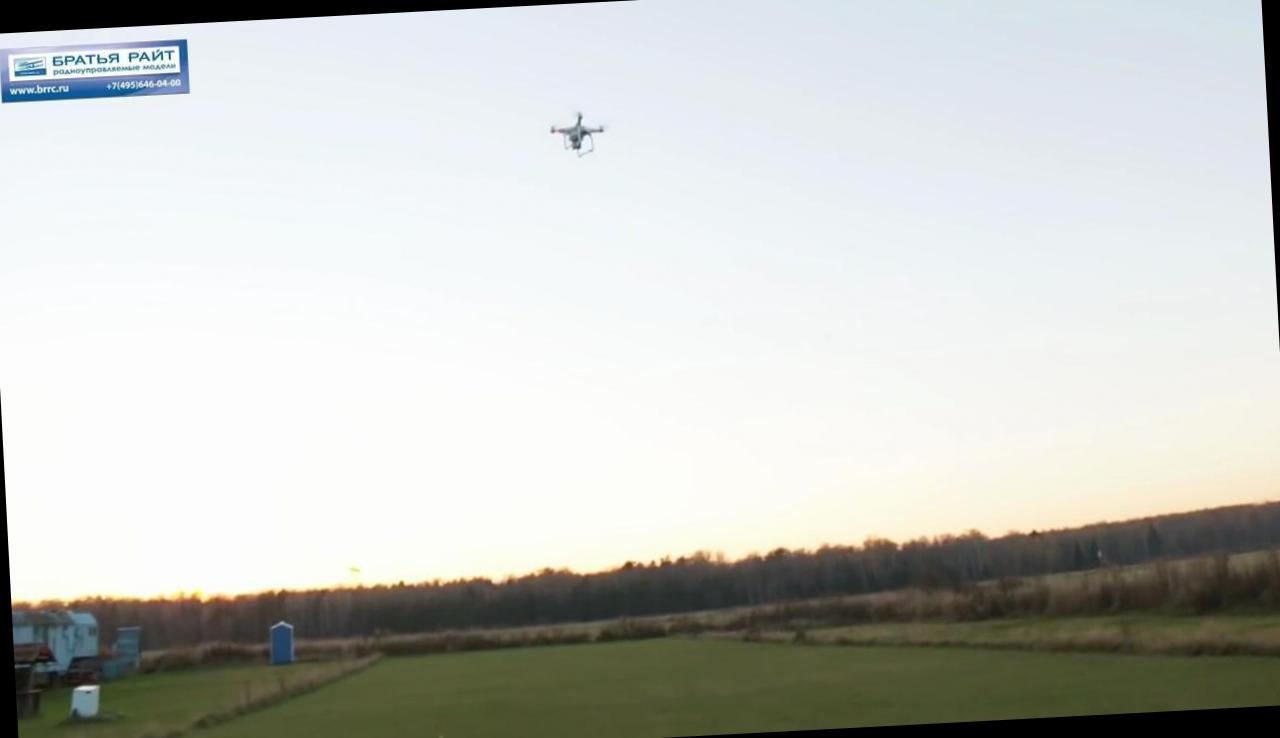drone: (547, 106, 610, 160)
